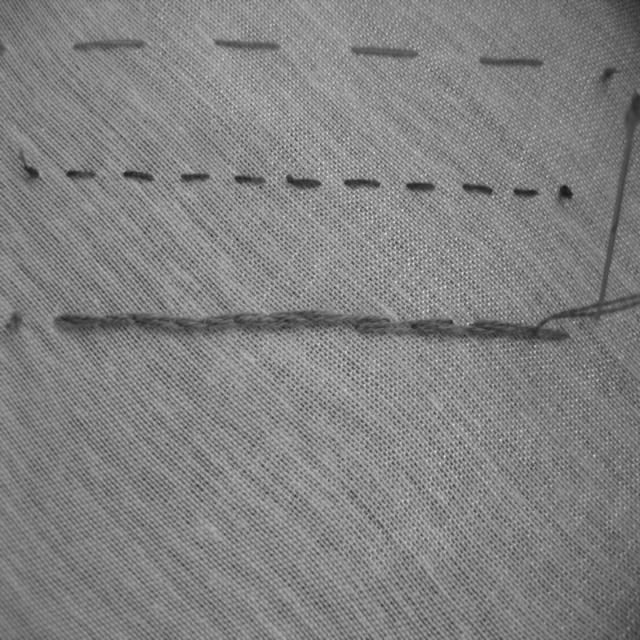stitch: (351, 45, 419, 58), (72, 38, 149, 48), (215, 38, 281, 49), (479, 57, 544, 67), (19, 150, 40, 178), (286, 173, 322, 188), (462, 183, 494, 196), (124, 170, 155, 182), (66, 168, 96, 180), (344, 178, 380, 188), (5, 310, 22, 330), (600, 65, 621, 80), (181, 172, 210, 182), (406, 182, 435, 192), (234, 175, 266, 183), (514, 187, 539, 197), (559, 185, 574, 200)
